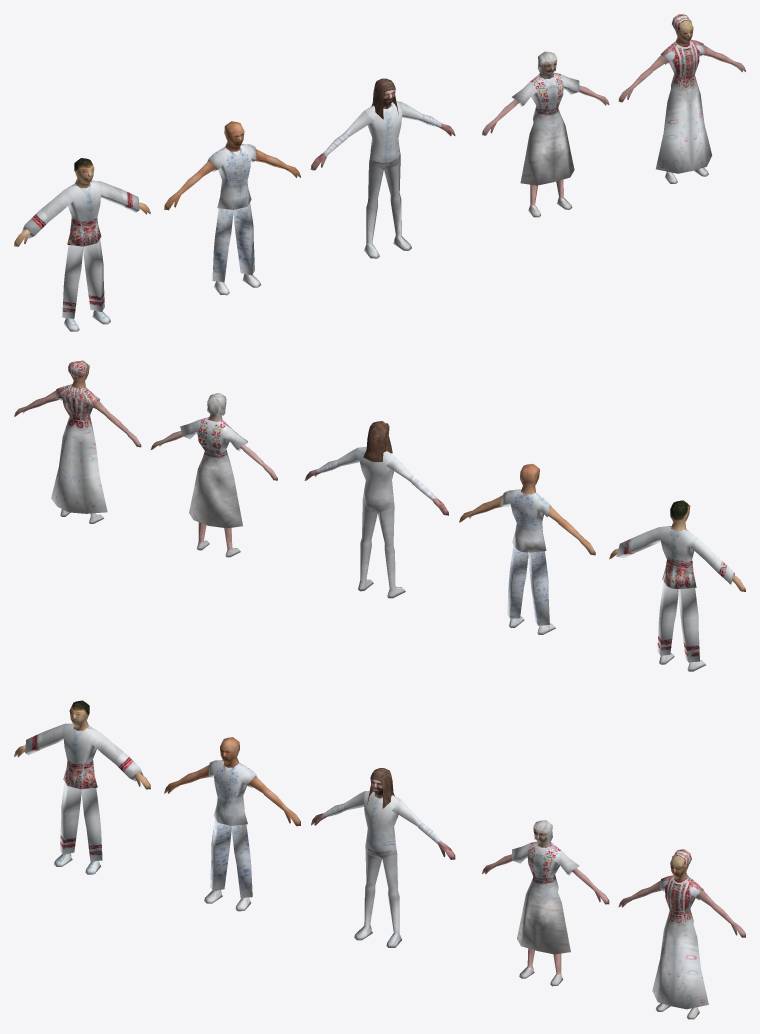
The model's file is Characters.fbx.
The picture shows the model from 3 angles, top to bottom: view 1: azimuth 30°, elevation 25°; view 2: azimuth 150°, elevation 25°; view 3: azimuth 330°, elevation 25°; orthographic projection.
Visible parts, largest first — view 1: HumanoidBase_NotOverlapping.015, HumanoidBase_NotOverlapping.012, HumanoidBase_NotOverlapping.027, HumanoidBase_NotOverlapping.031, HumanoidBase_NotOverlapping.028, HumanoidBase_NotOverlapping.024, HumanoidBase_NotOverlapping.006, HumanoidBase_NotOverlapping.011, HumanoidBase_NotOverlapping.010, HumanoidBase_NotOverlapping.026, HumanoidBase_NotOverlapping.018, HumanoidBase_NotOverlapping.007 (+2 smaller); view 2: HumanoidBase_NotOverlapping.015, HumanoidBase_NotOverlapping.012, HumanoidBase_NotOverlapping.027, HumanoidBase_NotOverlapping.028, HumanoidBase_NotOverlapping.031, HumanoidBase_NotOverlapping.024, HumanoidBase_NotOverlapping.006, HumanoidBase_NotOverlapping.011, HumanoidBase_NotOverlapping.010, HumanoidBase_NotOverlapping.007, HumanoidBase_NotOverlapping.026, HumanoidBase_NotOverlapping.018 (+1 smaller); view 3: HumanoidBase_NotOverlapping.015, HumanoidBase_NotOverlapping.012, HumanoidBase_NotOverlapping.027, HumanoidBase_NotOverlapping.028, HumanoidBase_NotOverlapping.031, HumanoidBase_NotOverlapping.024, HumanoidBase_NotOverlapping.006, HumanoidBase_NotOverlapping.010, HumanoidBase_NotOverlapping.011, HumanoidBase_NotOverlapping.026, HumanoidBase_NotOverlapping.018, HumanoidBase_NotOverlapping.007 (+2 smaller).
Boxes of the visible parts, x1=… form: HumanoidBase_NotOverlapping.015: x1=656, y1=39, x2=712, y2=173; HumanoidBase_NotOverlapping.012: x1=512, y1=72, x2=579, y2=185; HumanoidBase_NotOverlapping.027: x1=21, y1=180, x2=139, y2=246; HumanoidBase_NotOverlapping.031: x1=62, y1=239, x2=110, y2=331; HumanoidBase_NotOverlapping.028: x1=212, y1=202, x2=260, y2=295; HumanoidBase_NotOverlapping.024: x1=207, y1=144, x2=256, y2=209; HumanoidBase_NotOverlapping.006: x1=364, y1=101, x2=402, y2=169; HumanoidBase_NotOverlapping.011: x1=364, y1=164, x2=383, y2=258; HumanoidBase_NotOverlapping.010: x1=384, y1=157, x2=411, y2=250; HumanoidBase_NotOverlapping.026: x1=164, y1=149, x2=300, y2=210; HumanoidBase_NotOverlapping.018: x1=618, y1=45, x2=745, y2=102; HumanoidBase_NotOverlapping.007: x1=371, y1=78, x2=398, y2=119; HumanoidBase_NotOverlapping.015: x1=51, y1=384, x2=107, y2=513; HumanoidBase_NotOverlapping.012: x1=180, y1=417, x2=247, y2=528; HumanoidBase_NotOverlapping.027: x1=616, y1=526, x2=734, y2=589; HumanoidBase_NotOverlapping.028: x1=507, y1=545, x2=555, y2=634; HumanoidBase_NotOverlapping.031: x1=657, y1=581, x2=705, y2=671; HumanoidBase_NotOverlapping.024: x1=500, y1=489, x2=550, y2=552; HumanoidBase_NotOverlapping.006: x1=354, y1=447, x2=394, y2=513; HumanoidBase_NotOverlapping.011: x1=378, y1=506, x2=405, y2=598; HumanoidBase_NotOverlapping.010: x1=358, y1=499, x2=377, y2=591; HumanoidBase_NotOverlapping.007: x1=363, y1=421, x2=392, y2=461; HumanoidBase_NotOverlapping.026: x1=459, y1=495, x2=595, y2=555; HumanoidBase_NotOverlapping.018: x1=14, y1=390, x2=141, y2=447; HumanoidBase_NotOverlapping.015: x1=652, y1=875, x2=708, y2=1009; HumanoidBase_NotOverlapping.012: x1=512, y1=841, x2=579, y2=954; HumanoidBase_NotOverlapping.027: x1=25, y1=723, x2=143, y2=789; HumanoidBase_NotOverlapping.028: x1=204, y1=818, x2=252, y2=911; HumanoidBase_NotOverlapping.031: x1=53, y1=782, x2=102, y2=874; HumanoidBase_NotOverlapping.024: x1=208, y1=760, x2=257, y2=825; HumanoidBase_NotOverlapping.006: x1=364, y1=791, x2=401, y2=858; HumanoidBase_NotOverlapping.010: x1=382, y1=853, x2=401, y2=947; HumanoidBase_NotOverlapping.011: x1=354, y1=846, x2=381, y2=940; HumanoidBase_NotOverlapping.026: x1=164, y1=765, x2=300, y2=826; HumanoidBase_NotOverlapping.018: x1=618, y1=880, x2=745, y2=937; HumanoidBase_NotOverlapping.007: x1=367, y1=768, x2=394, y2=808.
Bounding box in the file's own units: 816 × 180 × 36.06.
